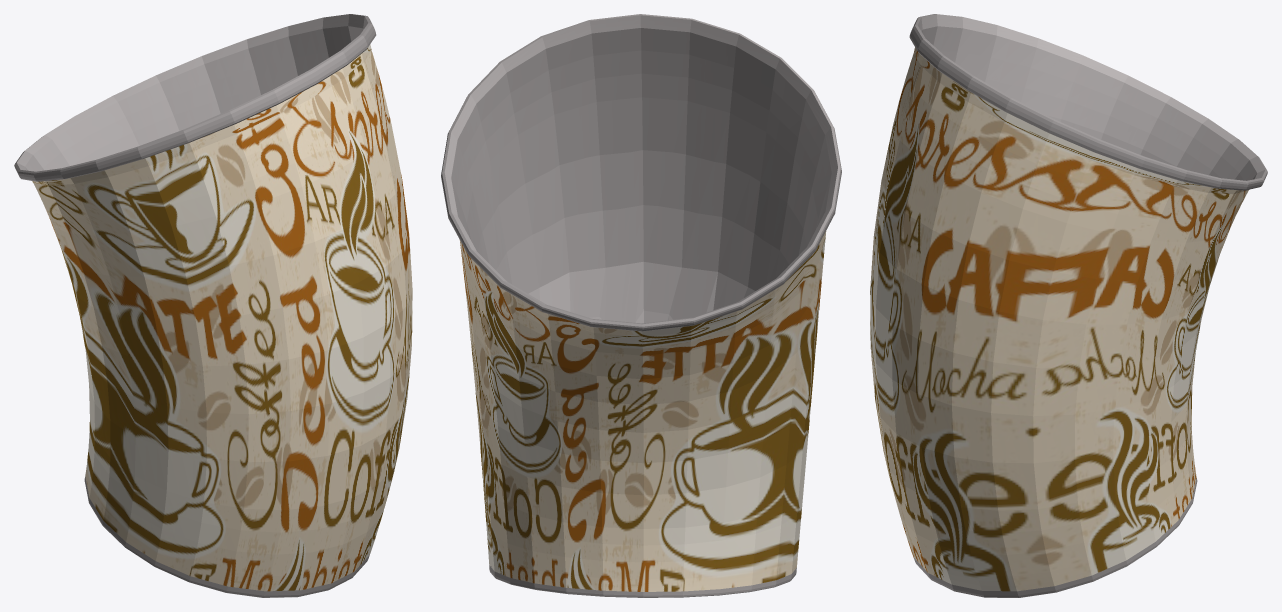
The model's file is bend_medium_0.obj.
3 views of the same model, side by side, from view 1: azimuth 30°, elevation 25°; view 2: azimuth 150°, elevation 25°; view 3: azimuth 270°, elevation 25° (orthographic). The views are drawn at different scales.
Parts seen in each view (by area): view 1: model; view 2: model; view 3: model.
Part boxes in pixels (x1=…): model: x1=14, y1=14, x2=412, y2=597; model: x1=441, y1=14, x2=841, y2=597; model: x1=870, y1=14, x2=1267, y2=597.
Bounding box in the file's own units: 0.0829 × 0.1244 × 0.0859.
1 material, 1 textured.
